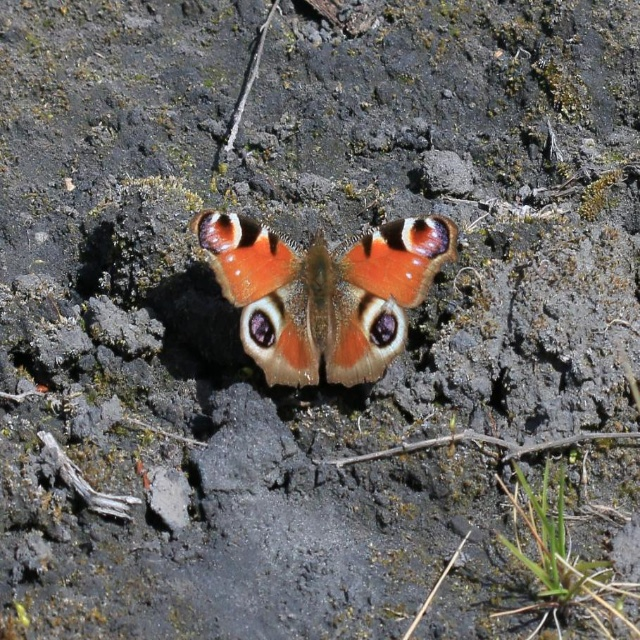Butterfly: (221, 167, 452, 429)
